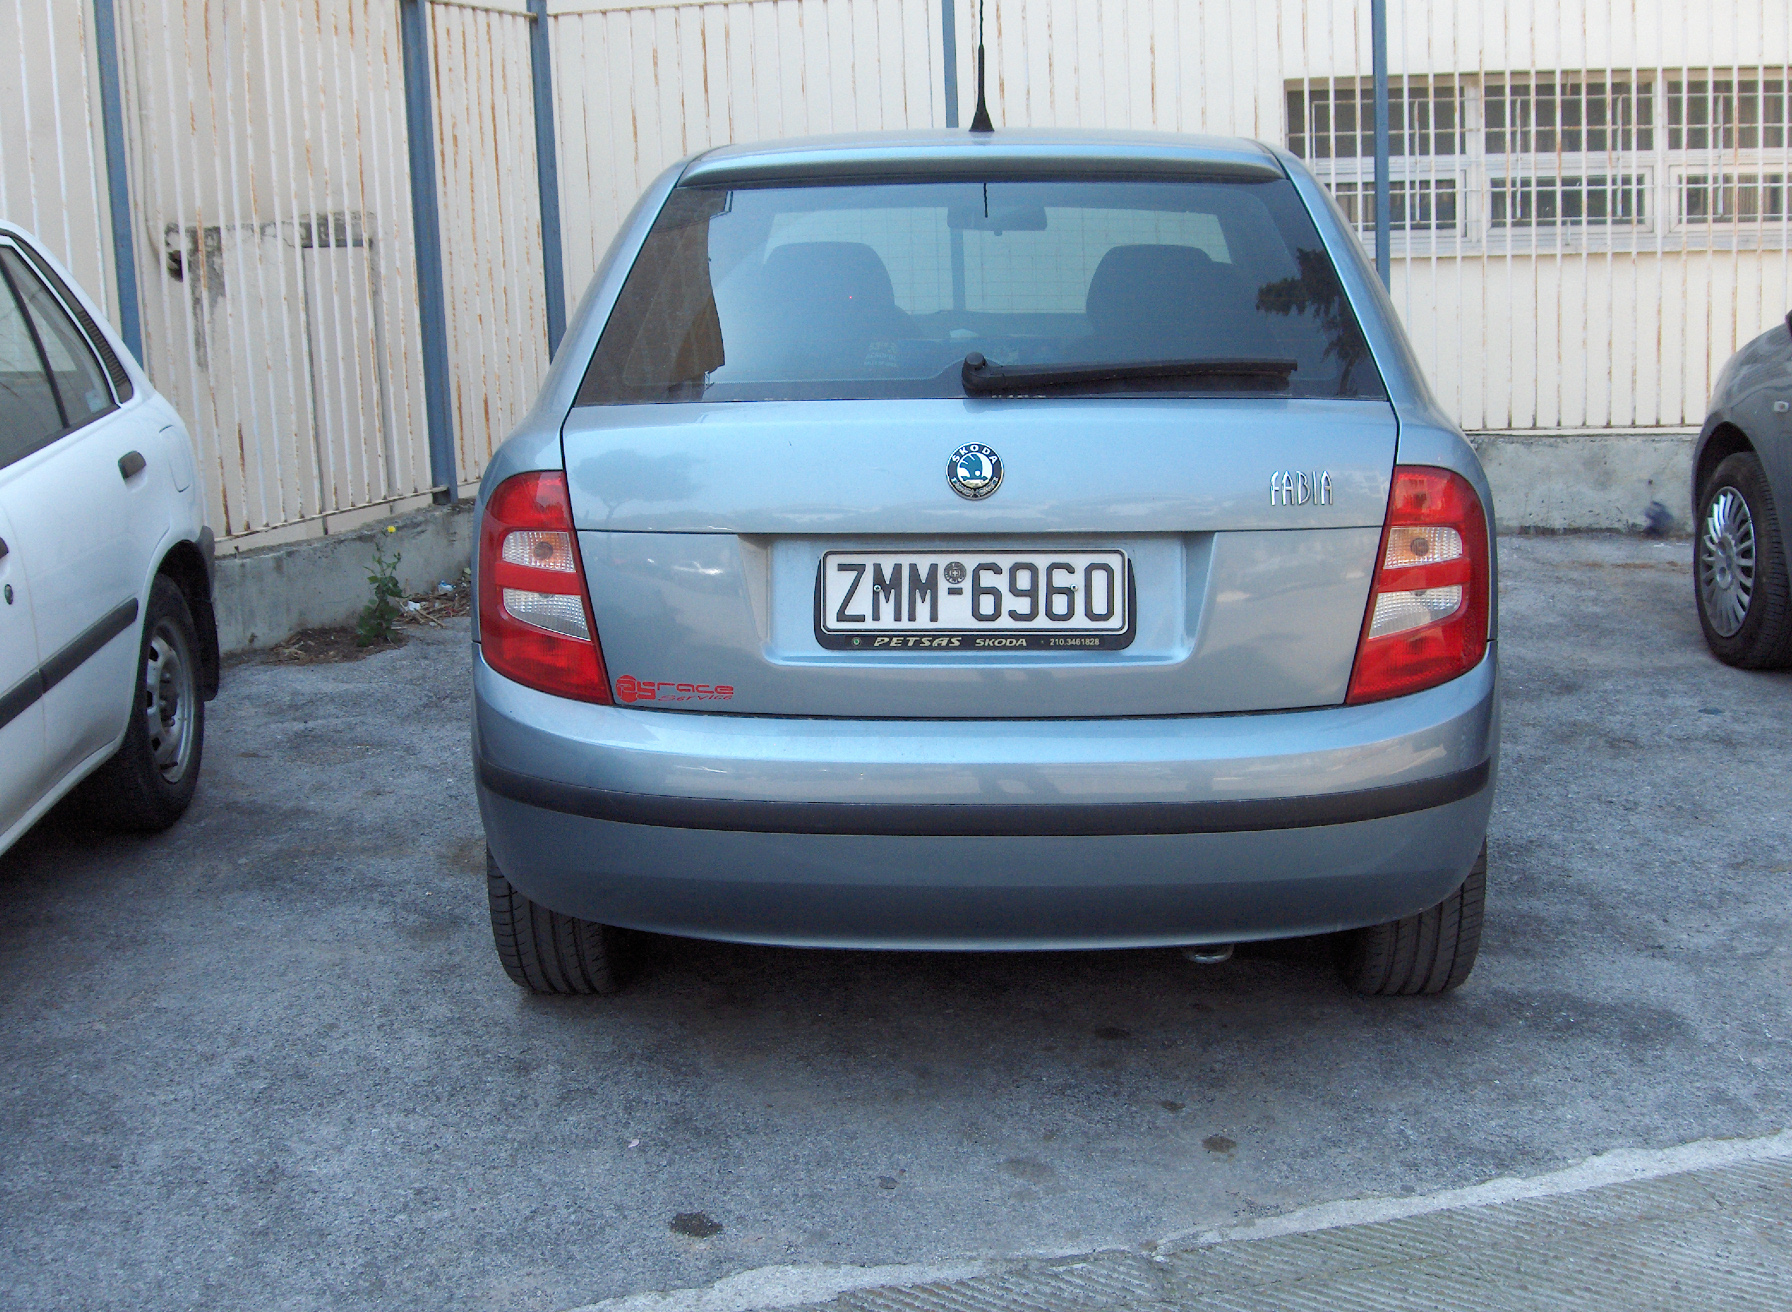licenseplate: (815, 547, 1130, 639)
